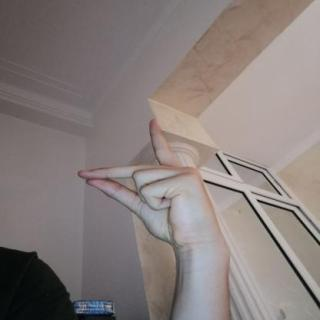TAA: (68, 114, 230, 250)
